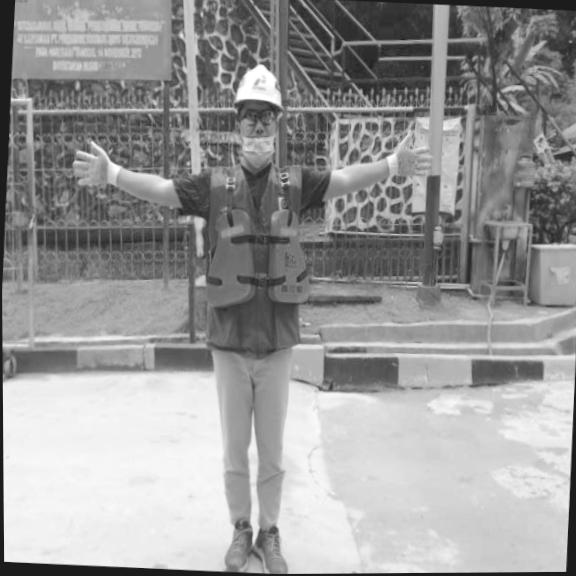safety_vest: (202, 206, 317, 311)
